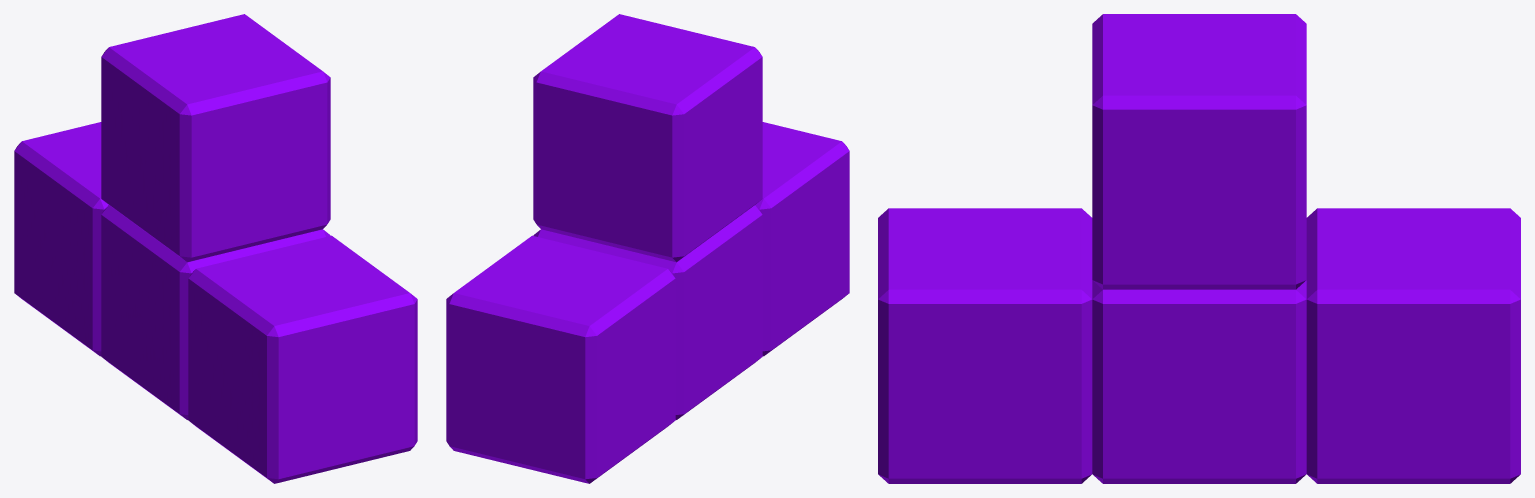
Rendered from T-Block.obj.
The picture shows the model from 3 angles, left to right: view 1: azimuth 30°, elevation 25°; view 2: azimuth 150°, elevation 25°; view 3: azimuth 270°, elevation 25°; orthographic projection. The views are drawn at different scales.
Visible parts, largest first — view 1: T-Block_Cube; view 2: T-Block_Cube; view 3: T-Block_Cube.
Part boxes in pixels (x1,y1,x2,y2): T-Block_Cube: [14, 14, 417, 483]; T-Block_Cube: [446, 14, 849, 483]; T-Block_Cube: [878, 14, 1520, 483].
Size of the model in its own units: 2 by 4 by 6.
Materials: 1 (1 with a texture image).
